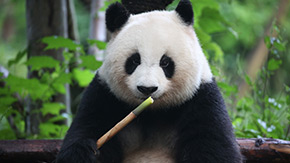panda: (59, 1, 243, 163)
